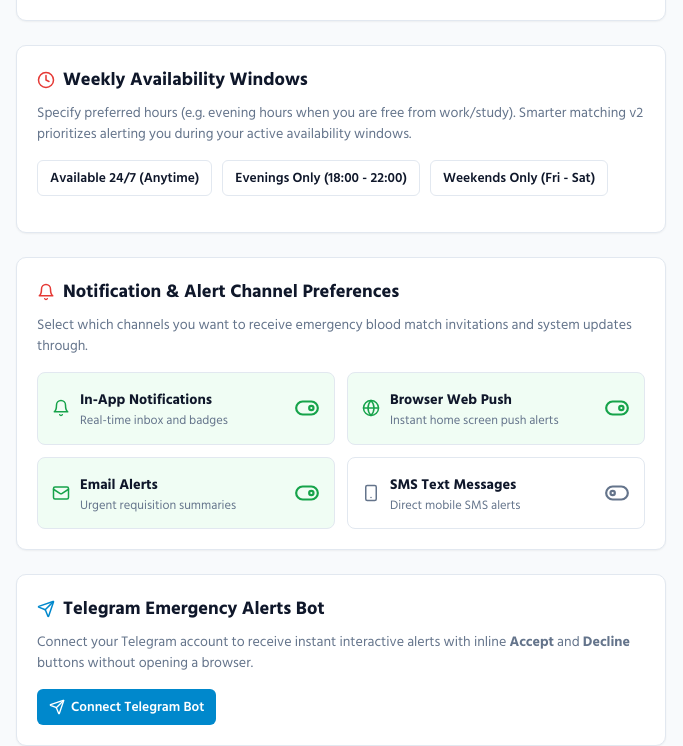
Test: Phase 21 Frontend: Telegram Bot Integration › generates linking code and displays /start command instructions
(page scrolled)
Click the button "Connect Telegram Bot". click: [127, 707]
box: [37,689,216,725]
(page scrolled)
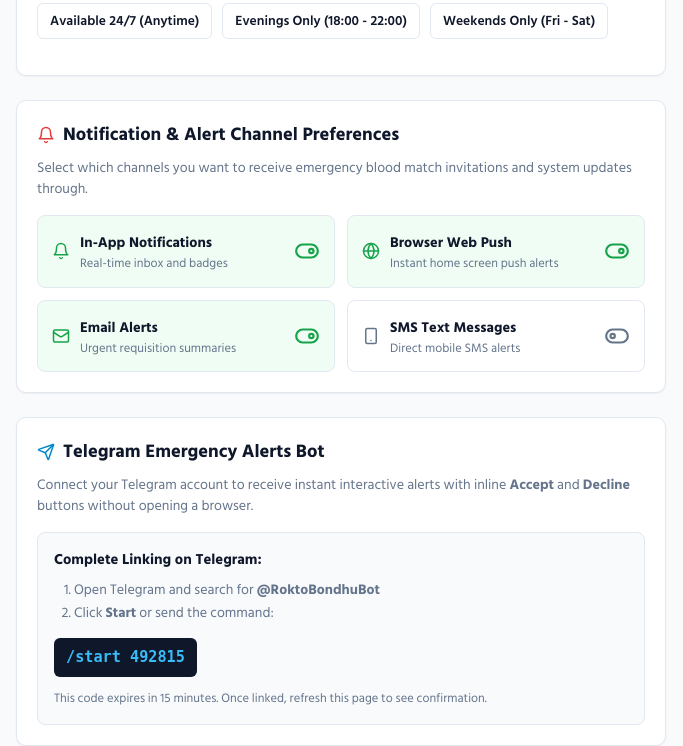
Expected: the heading "Complete Linking on Telegram:" is shown, [54,548,262,571]
Expected: the text "/start 492815" is shown, [54,638,197,677]
